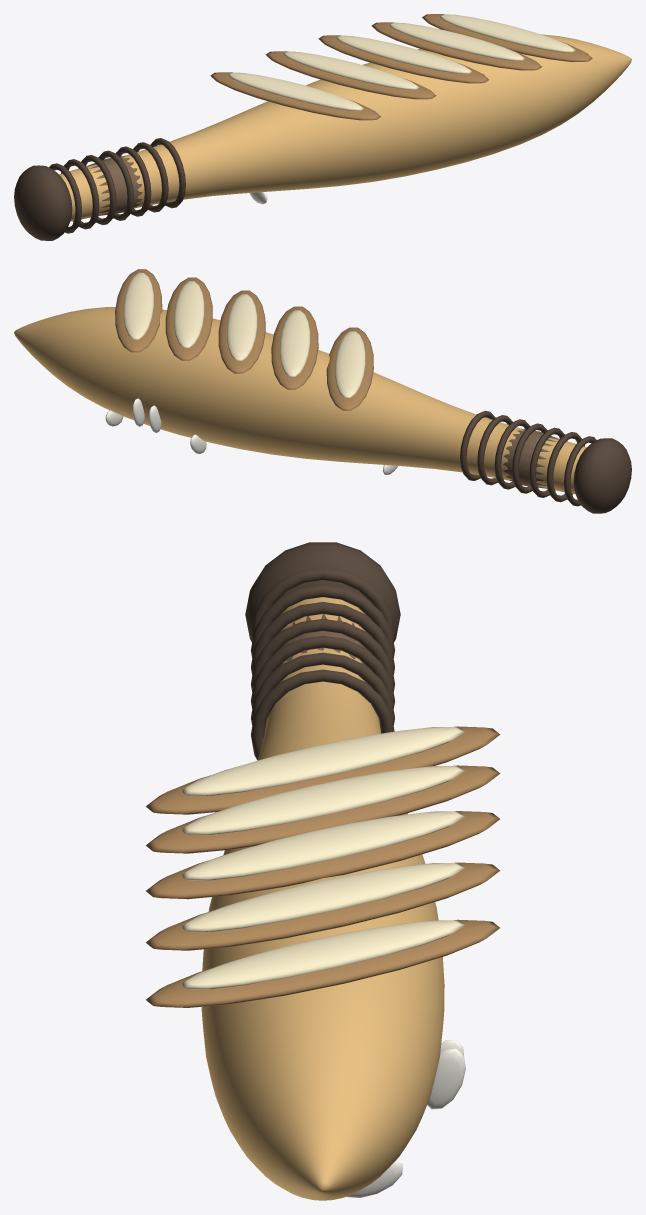
Rendered from weapon-baguette-bat.fbx.
The picture shows the model from 3 angles, top to bottom: view 1: azimuth 30°, elevation 25°; view 2: azimuth 150°, elevation 25°; view 3: azimuth 270°, elevation 25°; orthographic projection. The views are drawn at different scales.
Visible parts, largest first — view 1: BaguetteBat; view 2: BaguetteBat; view 3: BaguetteBat.
Part boxes in pixels (x1,y1,x2,y2): BaguetteBat: (14, 14, 631, 240); BaguetteBat: (14, 269, 631, 513); BaguetteBat: (145, 542, 500, 1200).
Size of the model in its own units: 2.54 by 0.4931 by 0.6392.
